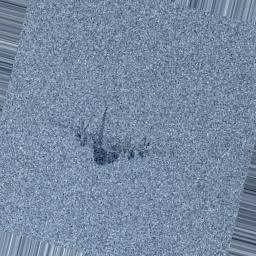Airplane: (58, 106, 151, 166)
